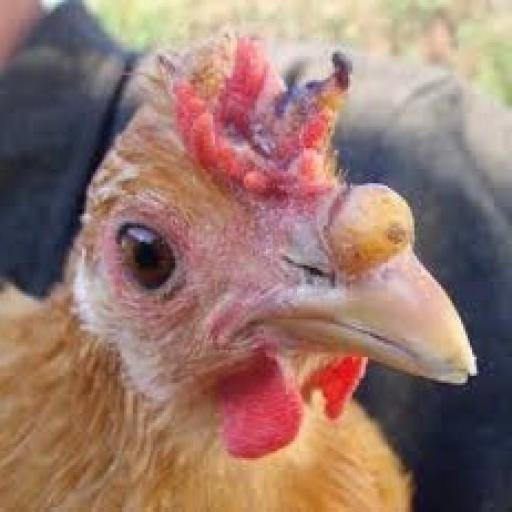disease: (177, 40, 357, 219), (266, 151, 432, 314)
